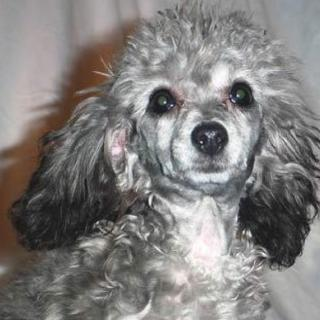dog: (100, 18, 284, 208)
nose: (191, 120, 232, 157)
